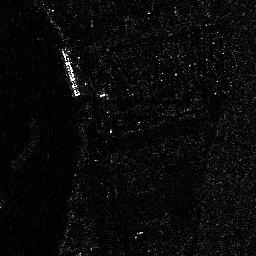ship: (57, 45, 81, 98)
